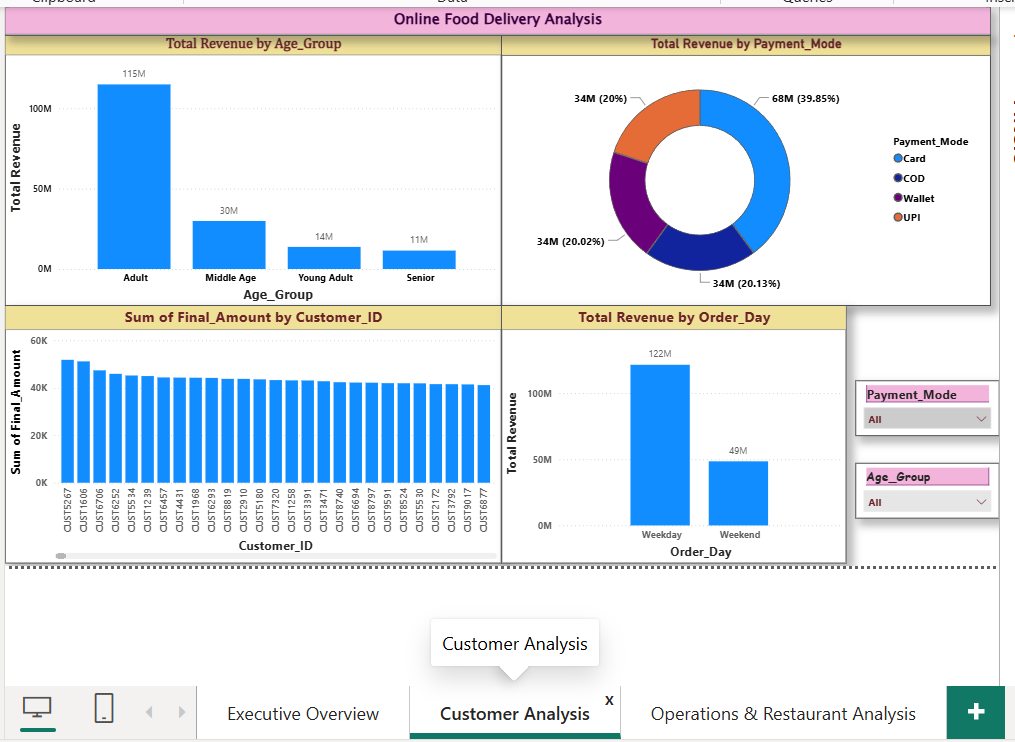

This screenshot's page, from the dashboard's own definition file:
{"tool":"powerbi","page":{"name":"Customer Analysis","canvas":[1280,720],"ordinal":1},"visuals":[{"type":"clusteredColumnChart","fields":{"Category":["final_food_delivery.Age_Group"],"Y":["final_food_delivery.Total Revenue"]},"box":[0,36.7,639.4,347.7],"z":0},{"type":"donutChart","fields":{"Category":["final_food_delivery.Payment_Mode"],"Y":["final_food_delivery.Total Revenue"]},"box":[639.4,36.7,629.7,347.7],"z":1000},{"type":"columnChart","fields":{"Category":["final_food_delivery.Customer_ID"],"Y":["Sum(final_food_delivery.Final_Amount)"]},"box":[0,384.4,639.4,332.2],"z":1001},{"type":"columnChart","fields":{"Category":["final_food_delivery.Order_Day"],"Y":["final_food_delivery.Total Revenue"]},"box":[639.4,384.4,444.3,332.2],"z":1002},{"type":"slicer","fields":{"Values":["final_food_delivery.Age_Group"]},"box":[1095.2,587.2,185.4,71.5],"z":1003},{"type":"slicer","fields":{"Values":["final_food_delivery.Payment_Mode"]},"box":[1095.2,481,185.4,71.5],"z":1004},{"type":"textbox","title":"Online Food Delivery Analysis","box":[0,0,1269.1,36.7],"z":1005}]}

Visuals, with their boxes in screenshot pixels (x1, y1, x2, y2):
clusteredColumnChart - final_food_delivery.Age_Group x final_food_delivery.Total Revenue: 0 31 500 303
donutChart - final_food_delivery.Payment_Mode x final_food_delivery.Total Revenue: 500 31 992 303
columnChart - final_food_delivery.Customer_ID x Sum(final_food_delivery.Final_Amount): 0 303 500 563
columnChart - final_food_delivery.Order_Day x final_food_delivery.Total Revenue: 500 303 847 563
slicer - final_food_delivery.Age_Group: 856 462 1001 518
slicer - final_food_delivery.Payment_Mode: 856 379 1001 435
"Online Food Delivery Analysis" textbox: 0 3 992 31
